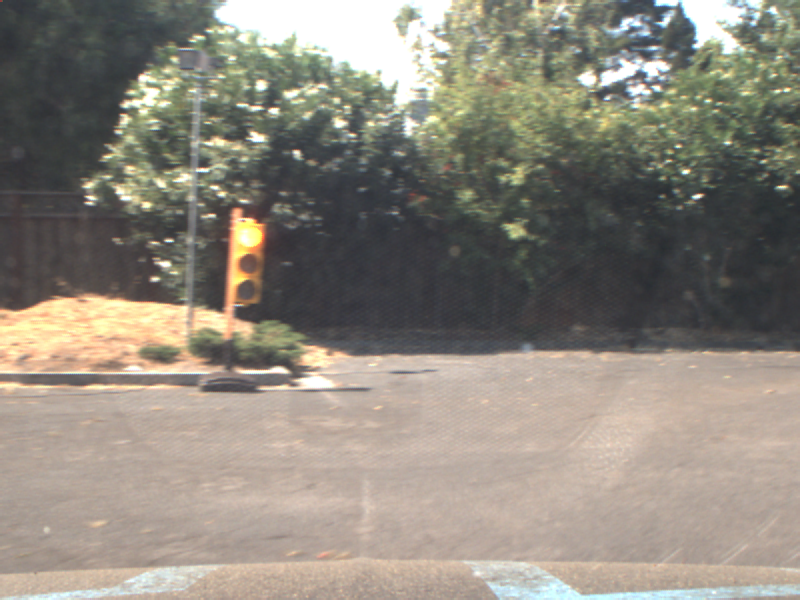red: (229, 208, 263, 308)
